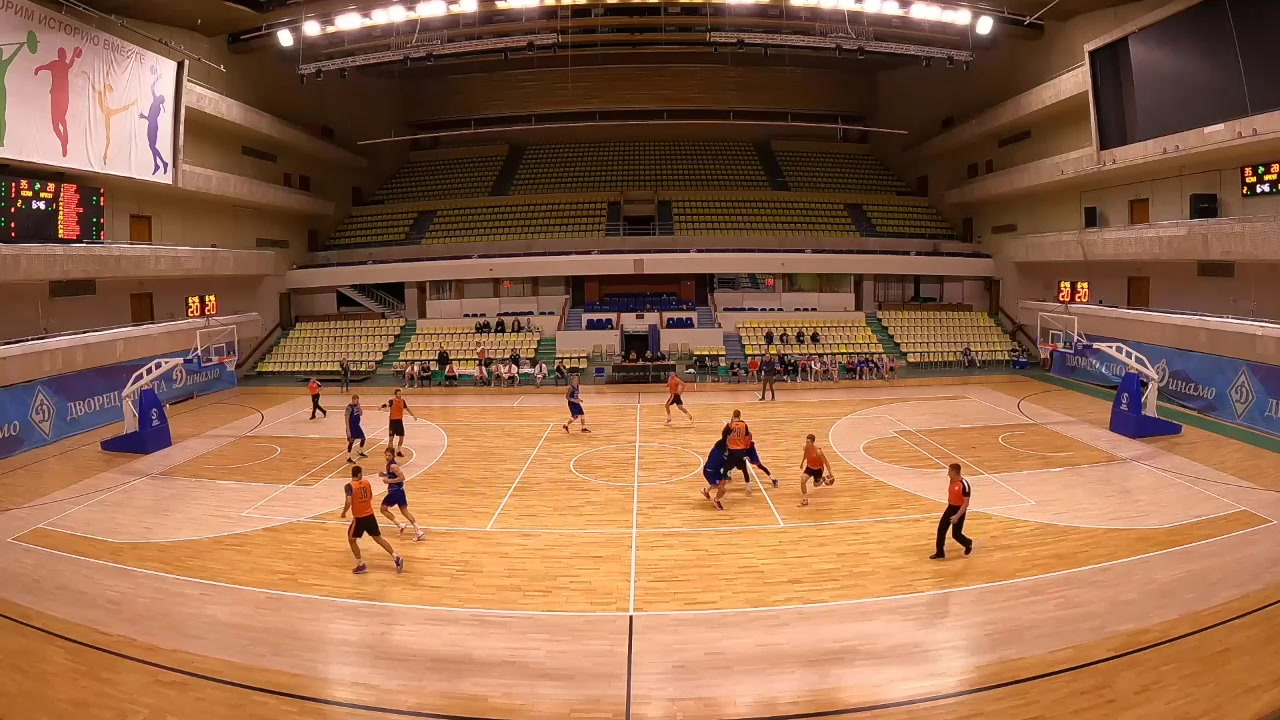basketball: (812, 470, 831, 495)
